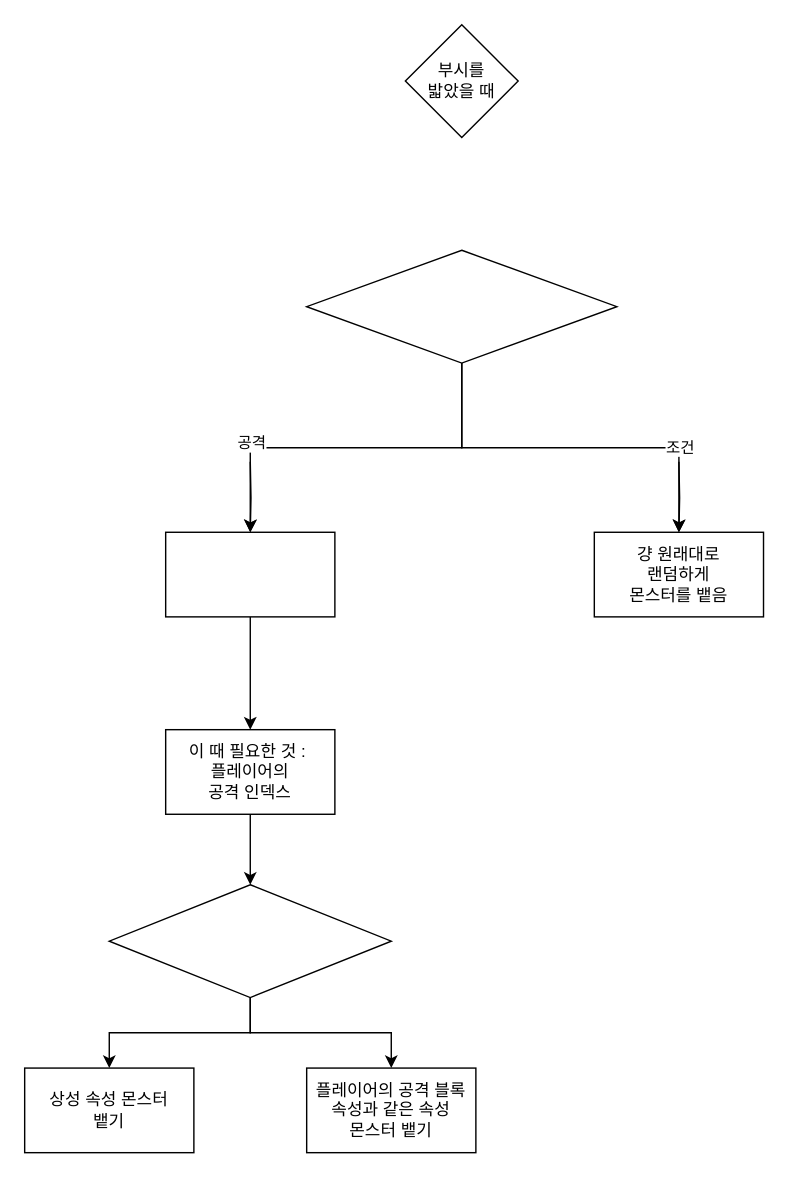
Some shapes in this 788 by 1177 pixel diagram are drawn without their labels. The shapes that lost their labels are listed below. From the top down, each one's box as (x1, y1, x2, y2) in pixels, then its label:
(305, 249, 617, 363): 현재 검사하는 블록이 조건 블록인가?
(164, 531, 335, 617): 무조건 지게끔 몬스터를 뱉음
(108, 883, 391, 998): 상성 속성 몬스터가 부시에 있는가?
